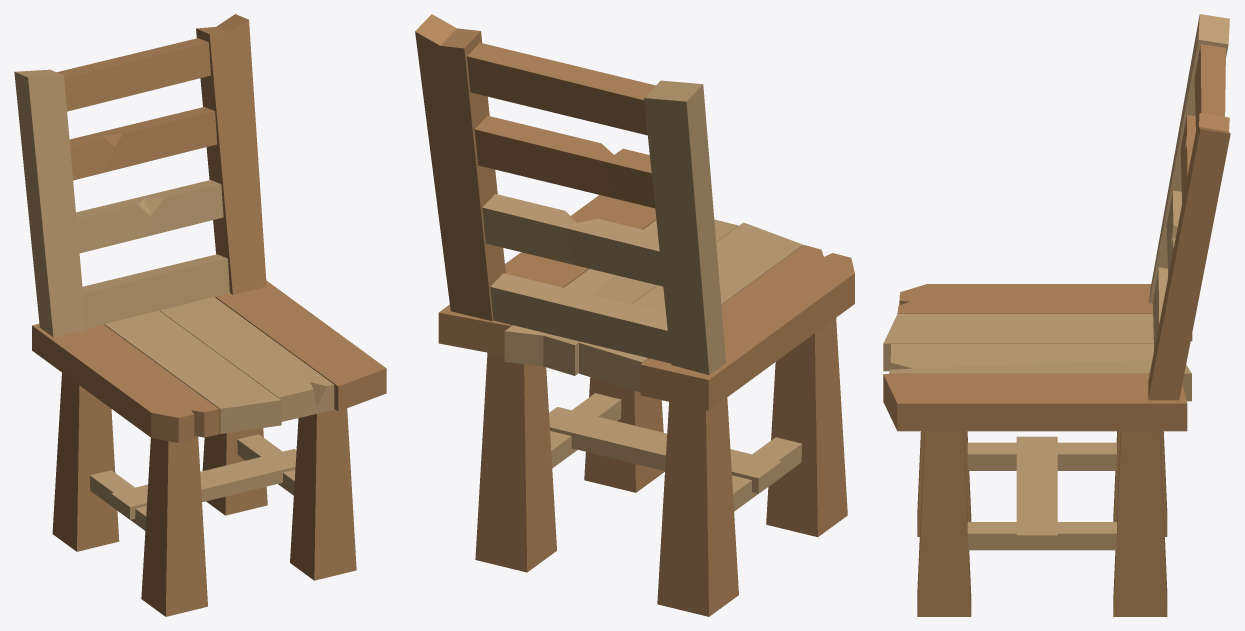
File: chair_2.fbx
3 renders of one model, left to right at view 1: azimuth 30°, elevation 25°; view 2: azimuth 150°, elevation 25°; view 3: azimuth 270°, elevation 25°, orthographic. The views are drawn at different scales.
Parts seen in each view (by area): view 1: chair_2; view 2: chair_2; view 3: chair_2.
Part boxes in pixels (x1,y1,x2,y2): chair_2: (14, 14, 386, 616); chair_2: (415, 14, 854, 616); chair_2: (883, 14, 1230, 616).
Size of the model in its own units: 62.19 by 121 by 76.34.
